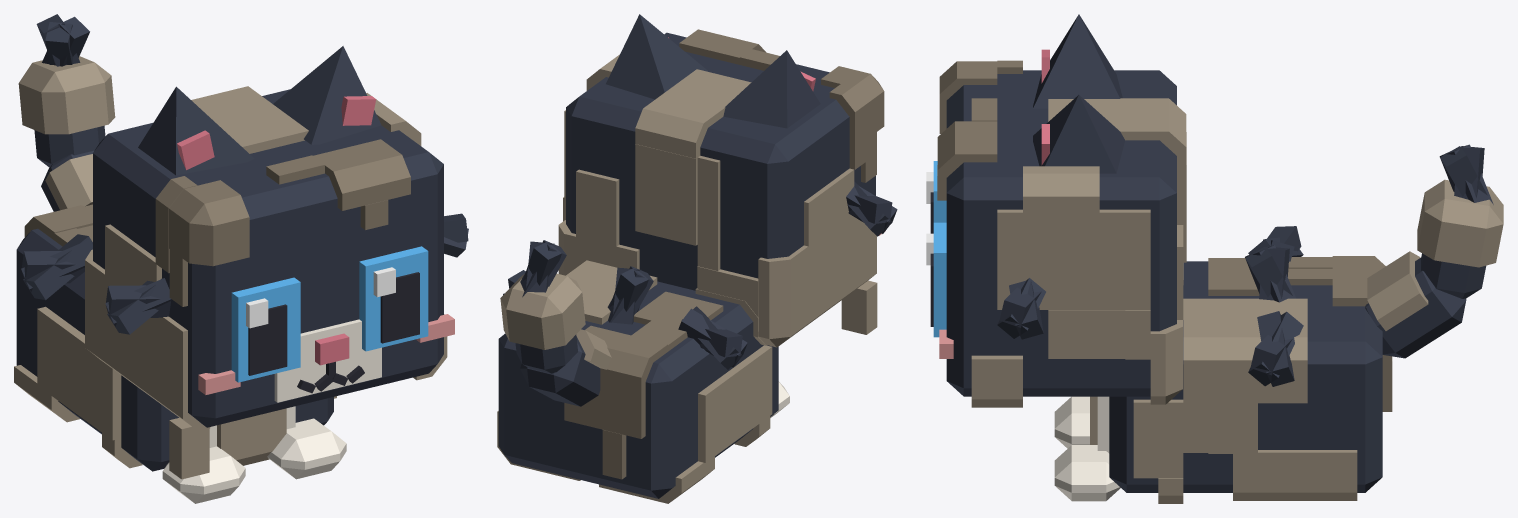
Rendered from CleanACat_Cat_Suds_Dirty_Loaf.fbx.
3 renders of one model, left to right at view 1: azimuth 30°, elevation 25°; view 2: azimuth 150°, elevation 25°; view 3: azimuth 270°, elevation 25°, orthographic. The views are drawn at different scales.
Visible parts, largest first — view 1: CleanACat_Cat_Suds_Dirty_Loaf_Head, CleanACat_Cat_Suds_Dirty_Loaf_Mud01, CleanACat_Cat_Suds_Dirty_Loaf_Body, CleanACat_Cat_Suds_Dirty_Loaf_Mud06, CleanACat_Cat_Suds_Dirty_Loaf_Mud10, CleanACat_Cat_Suds_Dirty_Loaf_Mud03, CleanACat_Cat_Suds_Dirty_Loaf_Eye2, CleanACat_Cat_Suds_Dirty_Loaf_Eye1, CleanACat_Cat_Suds_Dirty_Loaf_Mud15, CleanACat_Cat_Suds_Dirty_Loaf_EarL, CleanACat_Cat_Suds_Dirty_Loaf_Paws, CleanACat_Cat_Suds_Dirty_Loaf_EarR (+11 smaller); view 2: CleanACat_Cat_Suds_Dirty_Loaf_Head, CleanACat_Cat_Suds_Dirty_Loaf_Body, CleanACat_Cat_Suds_Dirty_Loaf_Mud01, CleanACat_Cat_Suds_Dirty_Loaf_Mud04, CleanACat_Cat_Suds_Dirty_Loaf_Mud09, CleanACat_Cat_Suds_Dirty_Loaf_Mud10, CleanACat_Cat_Suds_Dirty_Loaf_Mud05, CleanACat_Cat_Suds_Dirty_Loaf_Mud15, CleanACat_Cat_Suds_Dirty_Loaf_EarL, CleanACat_Cat_Suds_Dirty_Loaf_EarR, CleanACat_Cat_Suds_Dirty_Loaf_Mud06, CleanACat_Cat_Suds_Dirty_Loaf_Tail (+10 smaller); view 3: CleanACat_Cat_Suds_Dirty_Loaf_Head, CleanACat_Cat_Suds_Dirty_Loaf_Mud02, CleanACat_Cat_Suds_Dirty_Loaf_Body, CleanACat_Cat_Suds_Dirty_Loaf_Mud08, CleanACat_Cat_Suds_Dirty_Loaf_Mud11, CleanACat_Cat_Suds_Dirty_Loaf_Mud15, CleanACat_Cat_Suds_Dirty_Loaf_Tail, CleanACat_Cat_Suds_Dirty_Loaf_EarL, CleanACat_Cat_Suds_Dirty_Loaf_Mud04, CleanACat_Cat_Suds_Dirty_Loaf_EarR, CleanACat_Cat_Suds_Dirty_Loaf_Mud13, CleanACat_Cat_Suds_Dirty_Loaf_Paws (+13 smaller).
Part boxes in pixels (x1,y1,x2,y2): CleanACat_Cat_Suds_Dirty_Loaf_Head: [93, 89, 454, 427]; CleanACat_Cat_Suds_Dirty_Loaf_Mud01: [85, 224, 210, 479]; CleanACat_Cat_Suds_Dirty_Loaf_Body: [16, 228, 333, 471]; CleanACat_Cat_Suds_Dirty_Loaf_Mud06: [155, 176, 249, 306]; CleanACat_Cat_Suds_Dirty_Loaf_Mud10: [37, 306, 142, 468]; CleanACat_Cat_Suds_Dirty_Loaf_Mud03: [266, 139, 410, 230]; CleanACat_Cat_Suds_Dirty_Loaf_Eye2: [231, 277, 300, 382]; CleanACat_Cat_Suds_Dirty_Loaf_Eye1: [359, 246, 428, 351]; CleanACat_Cat_Suds_Dirty_Loaf_Mud15: [18, 56, 115, 134]; CleanACat_Cat_Suds_Dirty_Loaf_EarL: [273, 46, 381, 144]; CleanACat_Cat_Suds_Dirty_Loaf_Paws: [162, 418, 346, 503]; CleanACat_Cat_Suds_Dirty_Loaf_EarR: [138, 86, 254, 175]; CleanACat_Cat_Suds_Dirty_Loaf_Head: [566, 32, 885, 290]; CleanACat_Cat_Suds_Dirty_Loaf_Body: [498, 281, 778, 498]; CleanACat_Cat_Suds_Dirty_Loaf_Mud01: [697, 168, 877, 347]; CleanACat_Cat_Suds_Dirty_Loaf_Mud04: [635, 69, 751, 270]; CleanACat_Cat_Suds_Dirty_Loaf_Mud09: [564, 320, 669, 479]; CleanACat_Cat_Suds_Dirty_Loaf_Mud10: [695, 288, 772, 462]; CleanACat_Cat_Suds_Dirty_Loaf_Mud05: [558, 169, 639, 275]; CleanACat_Cat_Suds_Dirty_Loaf_Mud15: [500, 273, 585, 349]; CleanACat_Cat_Suds_Dirty_Loaf_EarL: [606, 14, 708, 99]; CleanACat_Cat_Suds_Dirty_Loaf_EarR: [723, 50, 820, 128]; CleanACat_Cat_Suds_Dirty_Loaf_Mud06: [821, 66, 884, 182]; CleanACat_Cat_Suds_Dirty_Loaf_Tail: [515, 334, 600, 406]; CleanACat_Cat_Suds_Dirty_Loaf_Head: [939, 70, 1176, 396]; CleanACat_Cat_Suds_Dirty_Loaf_Mud02: [971, 166, 1150, 407]; CleanACat_Cat_Suds_Dirty_Loaf_Body: [1097, 261, 1382, 492]; CleanACat_Cat_Suds_Dirty_Loaf_Mud08: [1183, 298, 1307, 453]; CleanACat_Cat_Suds_Dirty_Loaf_Mud11: [1233, 450, 1357, 500]; CleanACat_Cat_Suds_Dirty_Loaf_Mud15: [1417, 179, 1503, 267]; CleanACat_Cat_Suds_Dirty_Loaf_Tail: [1365, 253, 1486, 358]; CleanACat_Cat_Suds_Dirty_Loaf_EarL: [1033, 95, 1124, 173]; CleanACat_Cat_Suds_Dirty_Loaf_Mud04: [1048, 98, 1186, 262]; CleanACat_Cat_Suds_Dirty_Loaf_EarR: [1033, 14, 1122, 108]; CleanACat_Cat_Suds_Dirty_Loaf_Mud13: [1133, 399, 1183, 503]; CleanACat_Cat_Suds_Dirty_Loaf_Paws: [1054, 396, 1120, 501].
Size of the model in its own units: 1.39 by 1.59 by 2.
Materials: 1 (1 with a texture image).
